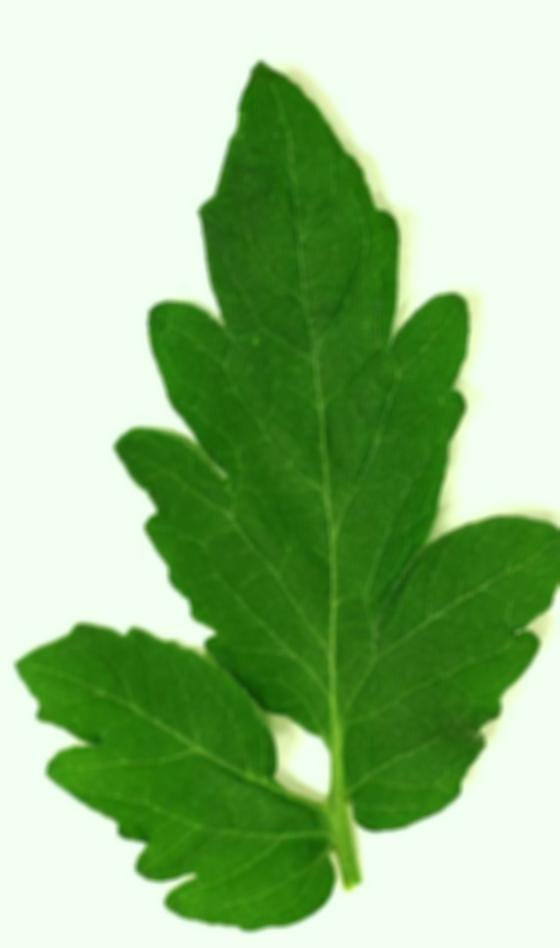Tomato leaf: (153, 36, 551, 839), (10, 608, 331, 919)
